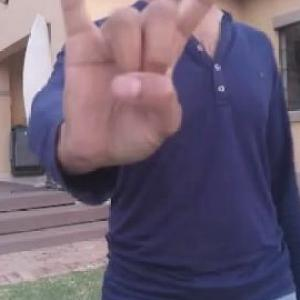takeoff-hand: (56, 0, 236, 167)
